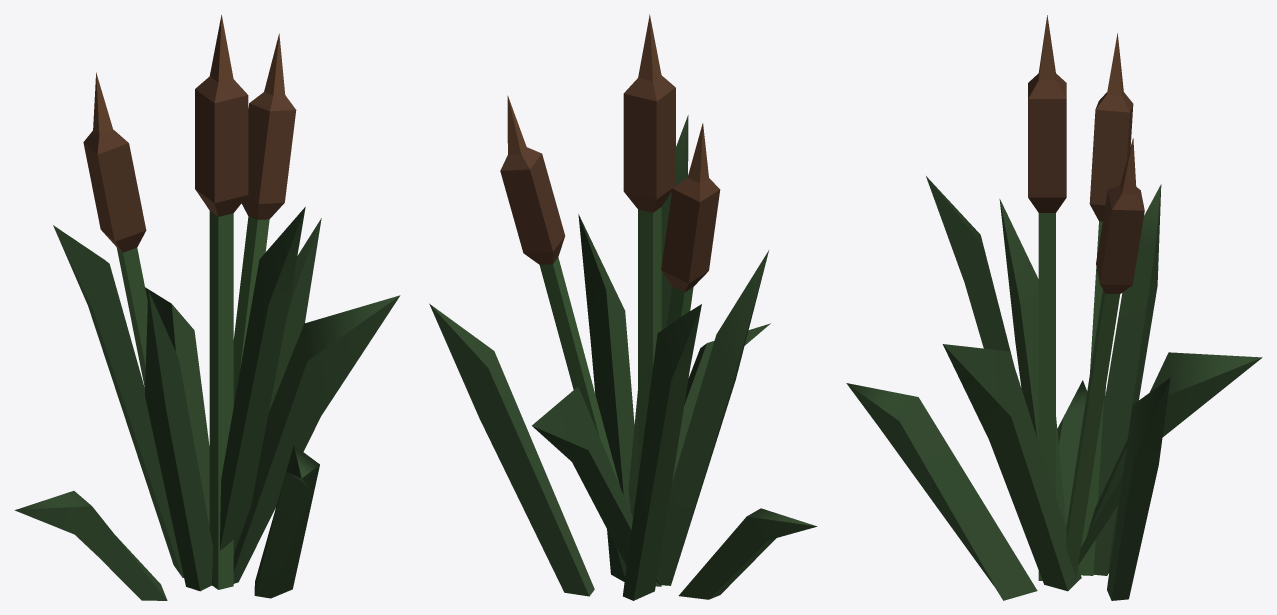
The model's file is SM_Env_Reeds_02.fbx.
3 renders of one model, left to right at view 1: azimuth 30°, elevation 25°; view 2: azimuth 150°, elevation 25°; view 3: azimuth 270°, elevation 25°, orthographic.
Parts seen in each view (by area): view 1: SM_Env_Reeds_02; view 2: SM_Env_Reeds_02; view 3: SM_Env_Reeds_02.
Boxes of the visible parts, <box> form: SM_Env_Reeds_02: <box>14,15,400,600</box>; SM_Env_Reeds_02: <box>429,14,817,600</box>; SM_Env_Reeds_02: <box>846,15,1262,600</box>.
Bounding box in the file's own units: 0.00889 × 0.0138 × 0.00924.
Materials: 1 (1 with a texture image).
